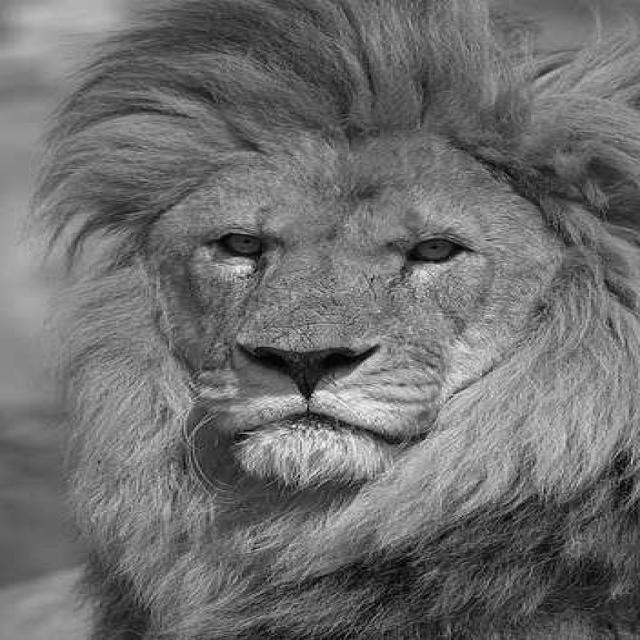Lion: (64, 106, 587, 620)
